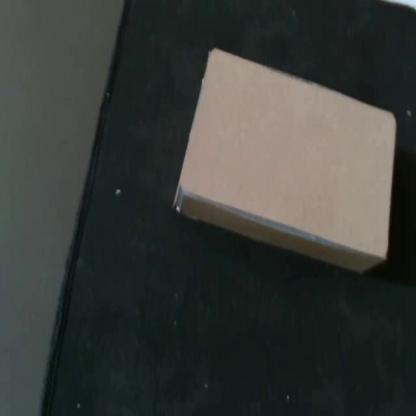Cube-silicone: (162, 17, 416, 314)
